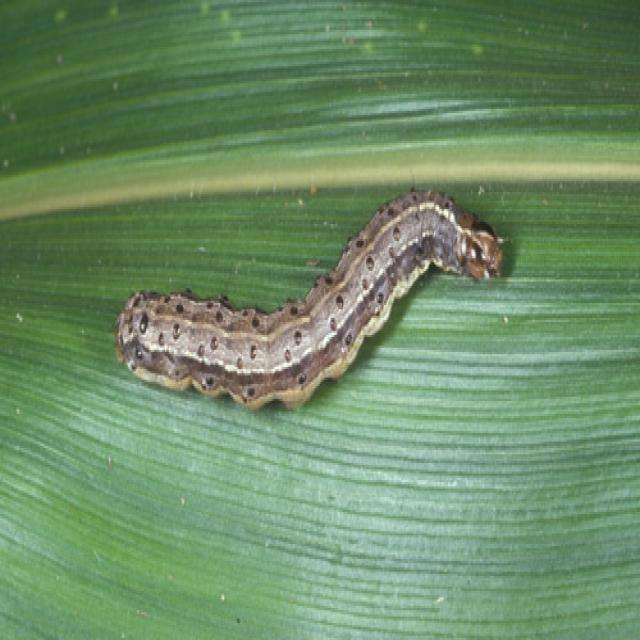armyworm: (89, 117, 524, 427)
